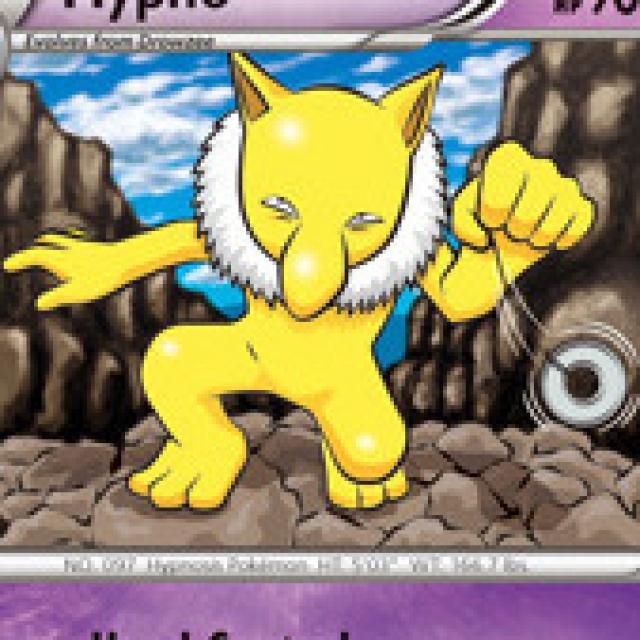Hypno: (143, 52, 466, 508)
